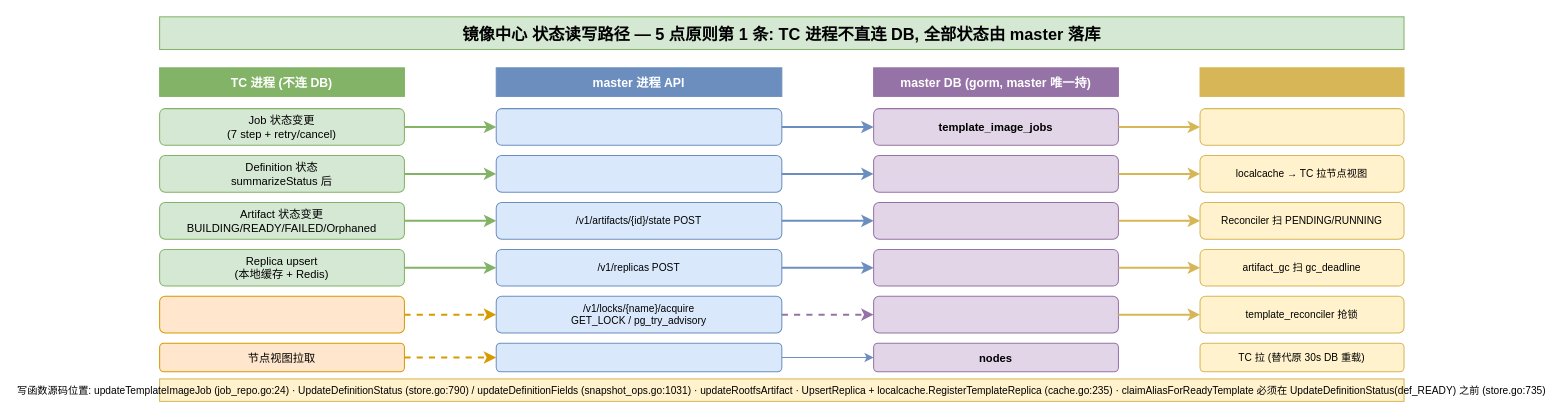
Some shapes in this 1563 by 418 pixel diagram are drawn without their labels. Here are the shapes that lost their labels. From the top down, the centre of each, then its label:
At point 1301,81: "3 层读 (谁在用)".
At point 638,126: "/v1/jobs/{id}/state POST".
At point 1301,126: "API 层 → CLI / SDK / WebUI".
At point 638,173: "/v1/definitions/{id}/state POST".
At point 995,173: "template_definitions".
At point 995,220: "rootfs_artifacts".
At point 995,267: "template_replicas".
At point 281,314: "跨副本互斥锁 (经 master API 拿)".
At point 995,314: "DB 持锁会话 (pinned)".
At point 638,357: "/v1/nodes GET".
